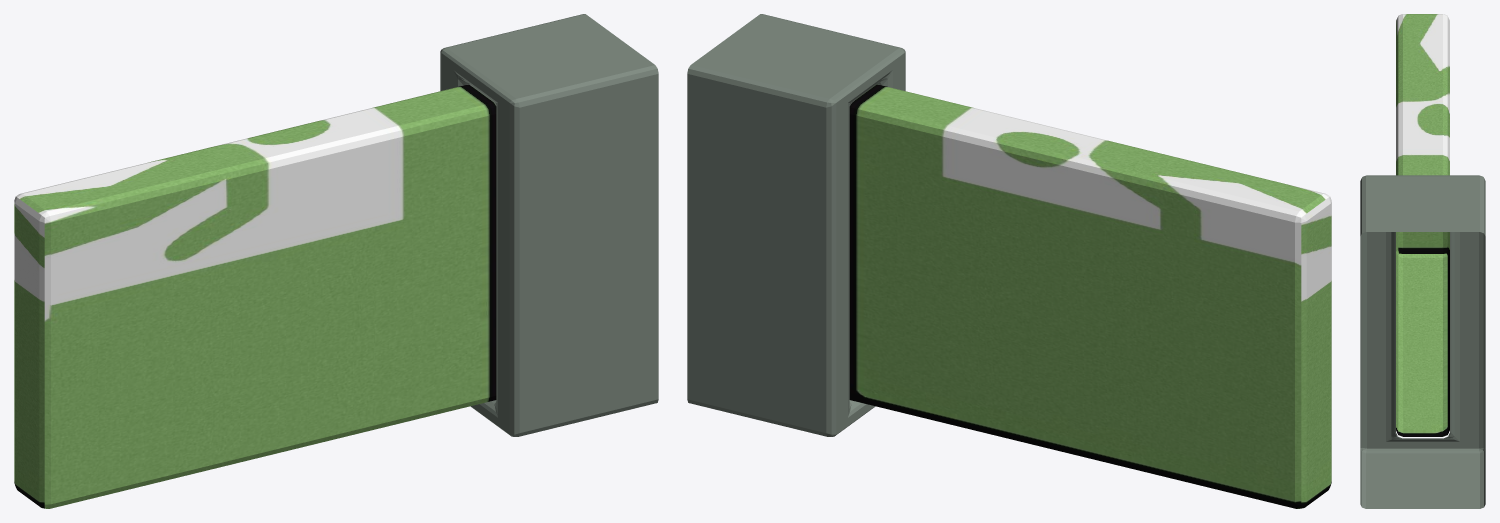
Rendered from ExitSign_nib_v02.fbx.
3 views of the same model, side by side, from view 1: azimuth 30°, elevation 25°; view 2: azimuth 150°, elevation 25°; view 3: azimuth 270°, elevation 25° (orthographic). The views are drawn at different scales.
Visible parts, largest first — view 1: Sign, ExitSignHolder; view 2: Sign, ExitSignHolder; view 3: ExitSignHolder, Sign.
Part boxes in pixels (x1=…): Sign: x1=14, y1=84, x2=496, y2=508; ExitSignHolder: x1=440, y1=14, x2=658, y2=436; Sign: x1=849, y1=84, x2=1331, y2=508; ExitSignHolder: x1=687, y1=14, x2=905, y2=436; ExitSignHolder: x1=1360, y1=175, x2=1485, y2=508; Sign: x1=1396, y1=14, x2=1449, y2=436.
Bounding box in the file's own units: 39.77 × 21.65 × 8.89.
